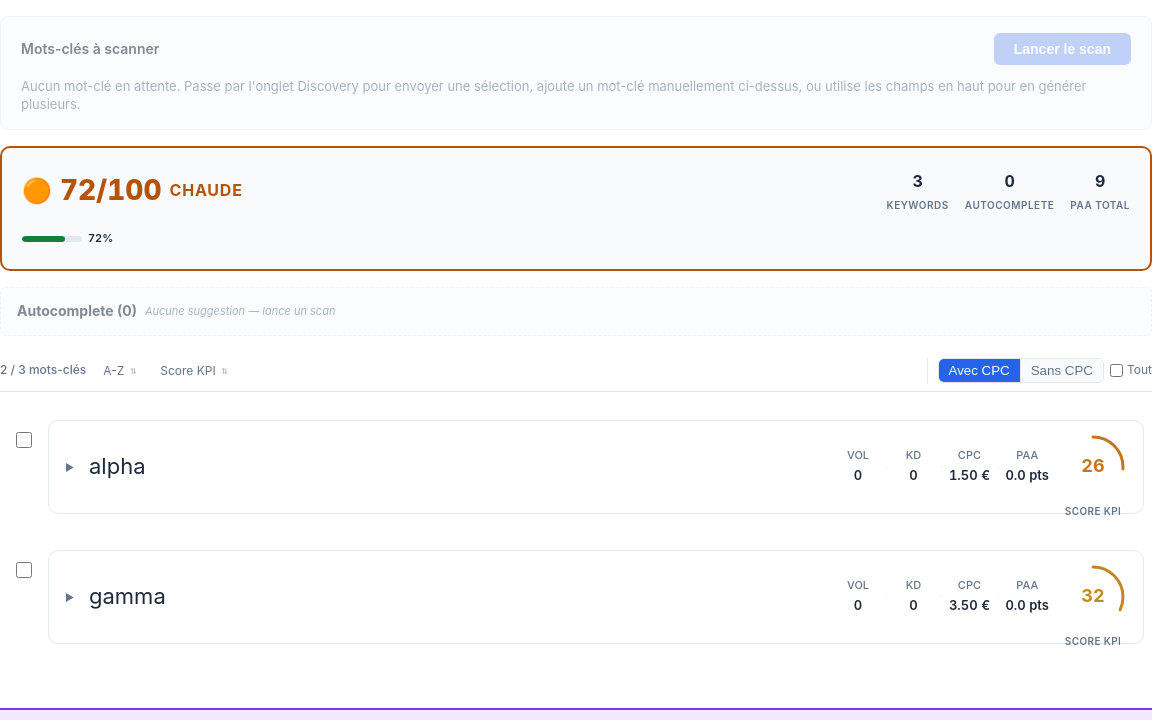
RadarPanel — phase results › checkbox "Tout" coche toutes les cards visibles (filtre CPC respecté)
The width and height of the screenshot is (1152, 720).
Note: Coche "Tout"
Click the checkbox labelled "Tout" at point(1116, 370), box [1110,364,1123,377]
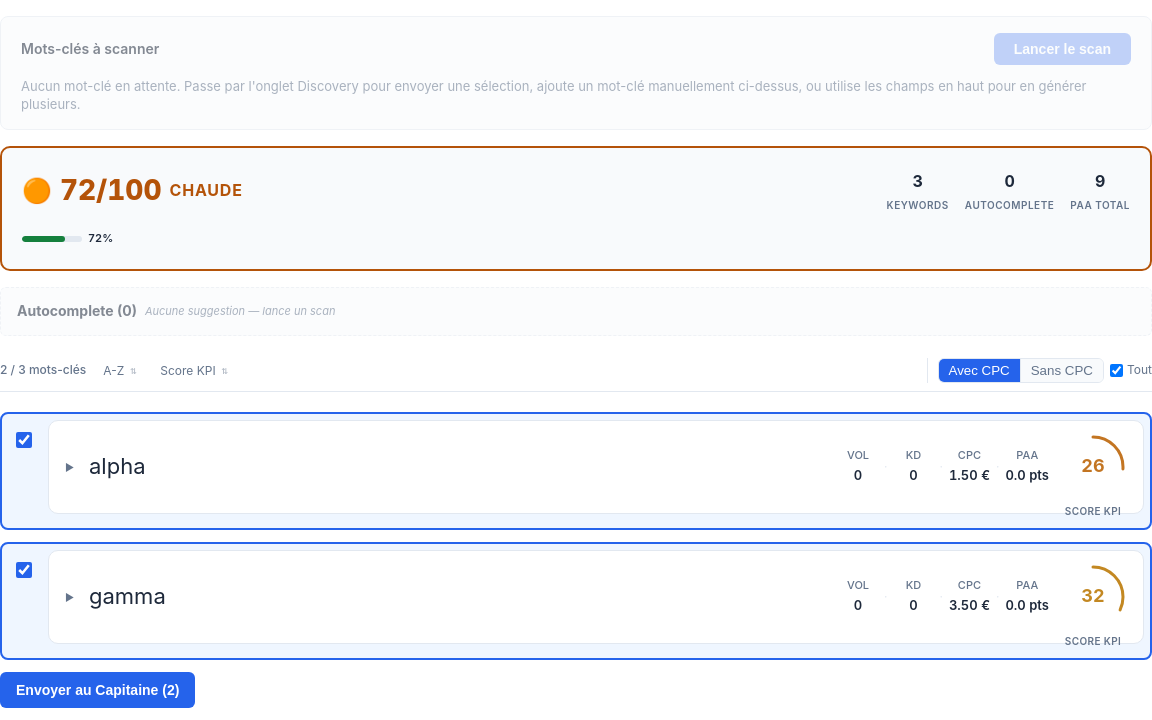
Now the button with class "btn-send-captain" shows "2", box [0,672,195,708]
